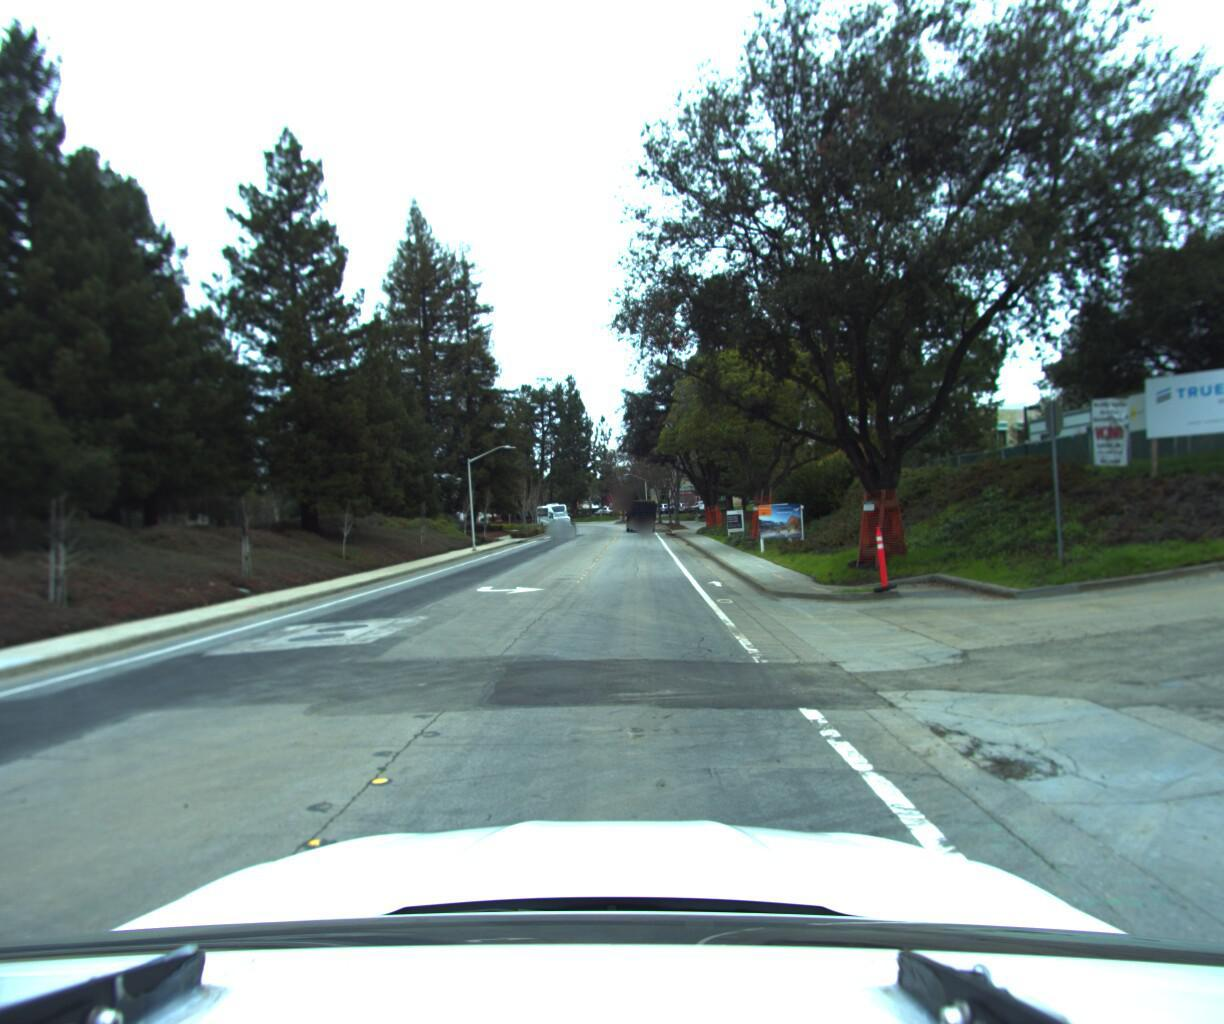truck: (623, 488, 659, 531)
